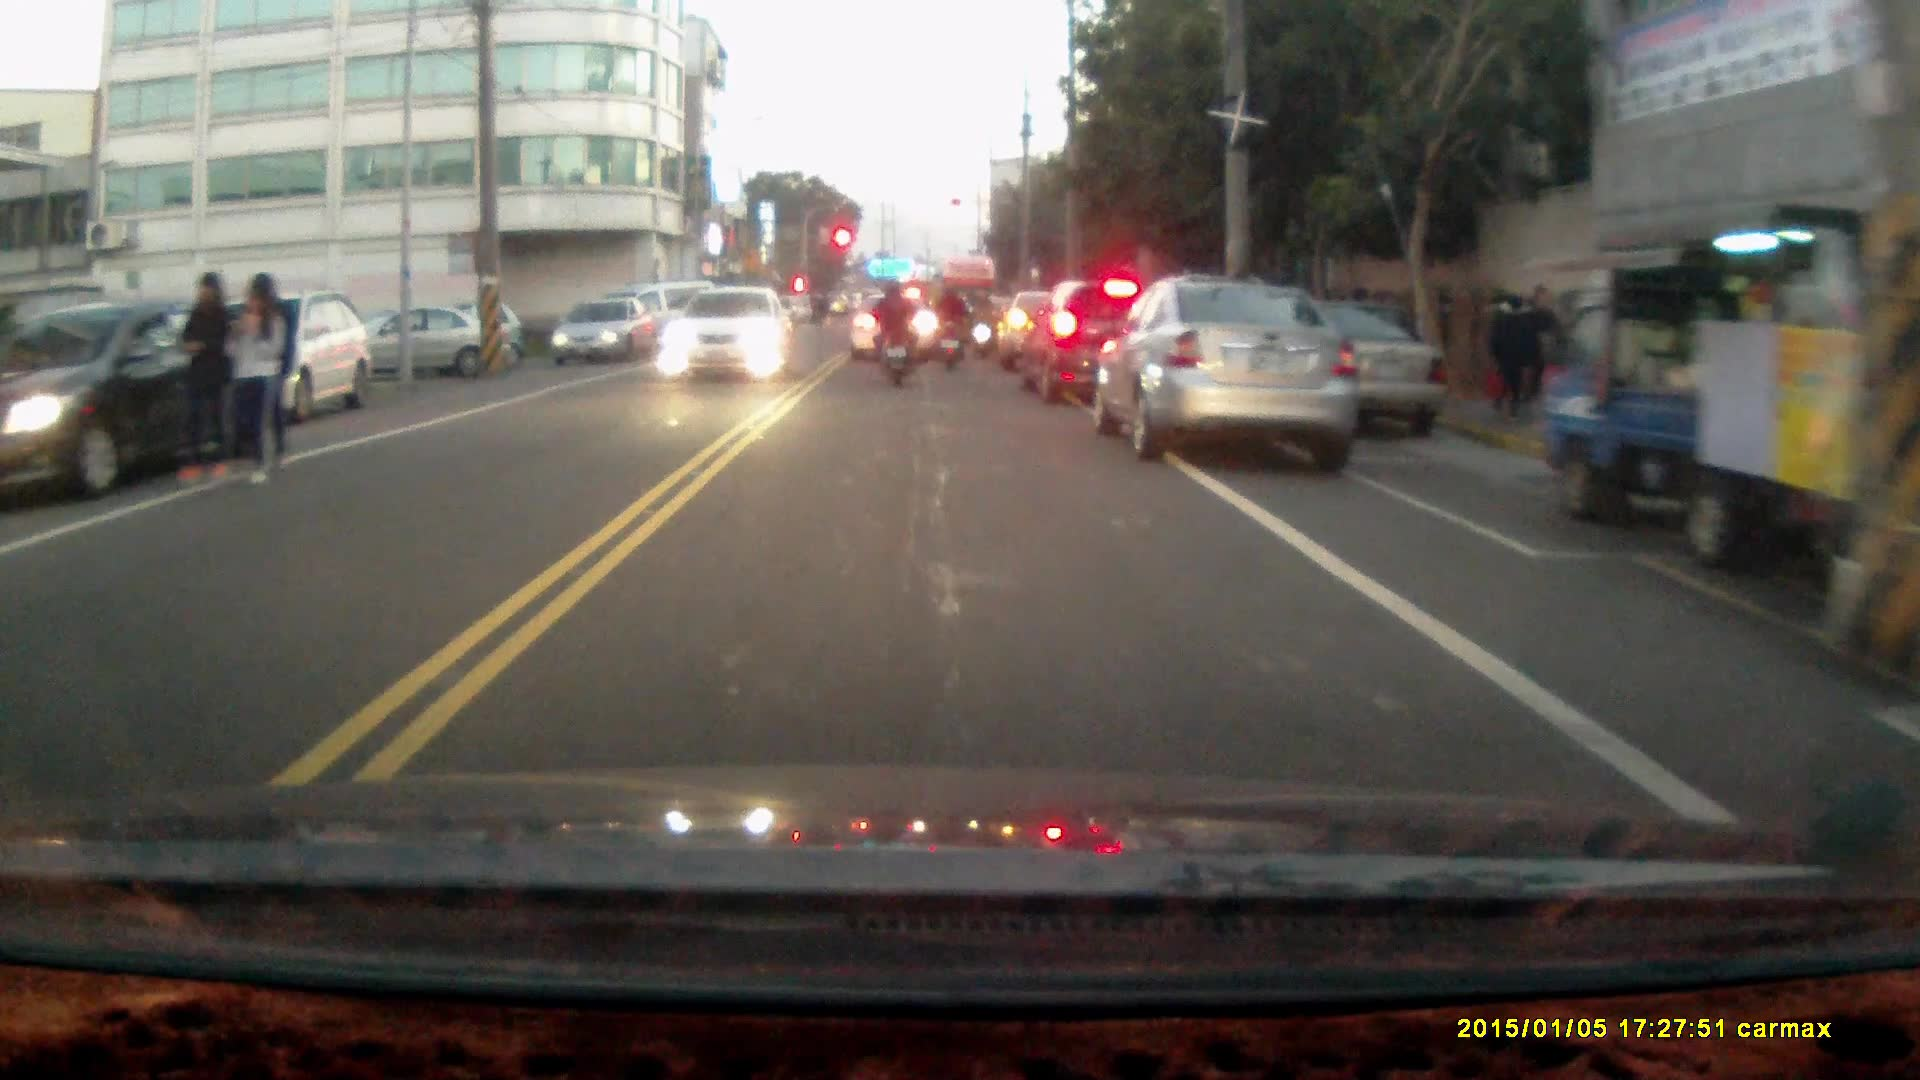pedestrian: (223, 271, 284, 489), (175, 267, 228, 487), (1517, 282, 1562, 418), (1488, 287, 1532, 419)
rider: (867, 278, 915, 387), (929, 277, 972, 370)
vehicle: (1529, 218, 1920, 567), (1, 297, 269, 508), (1102, 277, 1358, 464), (203, 290, 371, 429), (1025, 279, 1172, 406), (656, 285, 790, 382), (549, 296, 648, 364), (851, 293, 942, 362)
